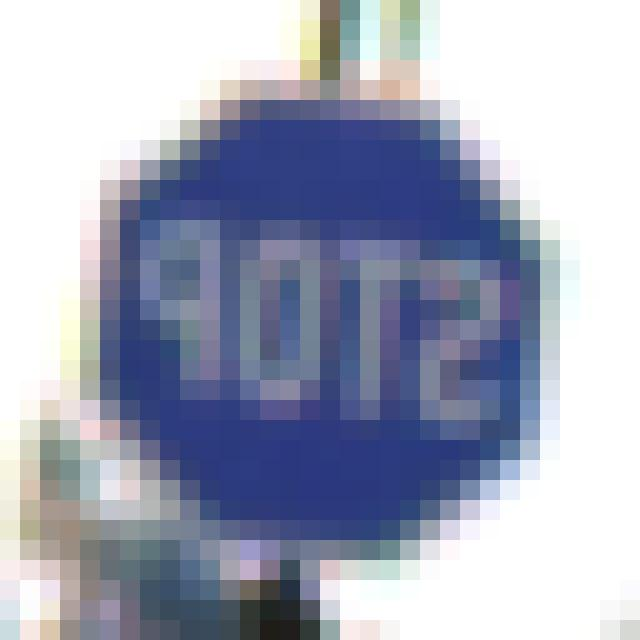STOP: (108, 112, 520, 538)
